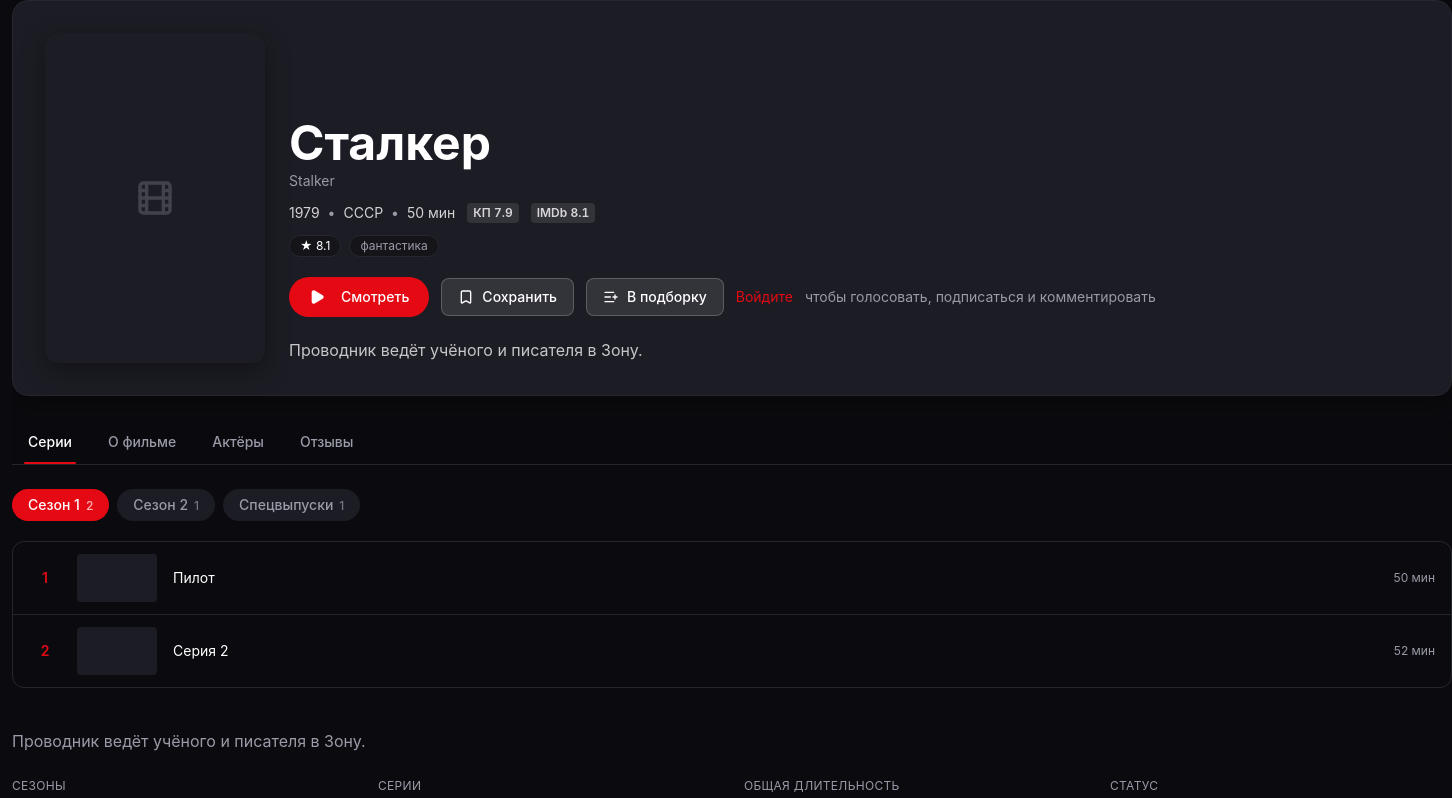
Test case: ItemDetailView — спецвыпуски, актёры, франшиза › вкладка «Спецвыпуски» последней, не первой
Expected: the number of buttons with test id "season-tab" is 2, [12,489,109,521]; [117,489,215,521]
Click the button with test id "specials-tab": point(292, 505) [223,489,360,521]
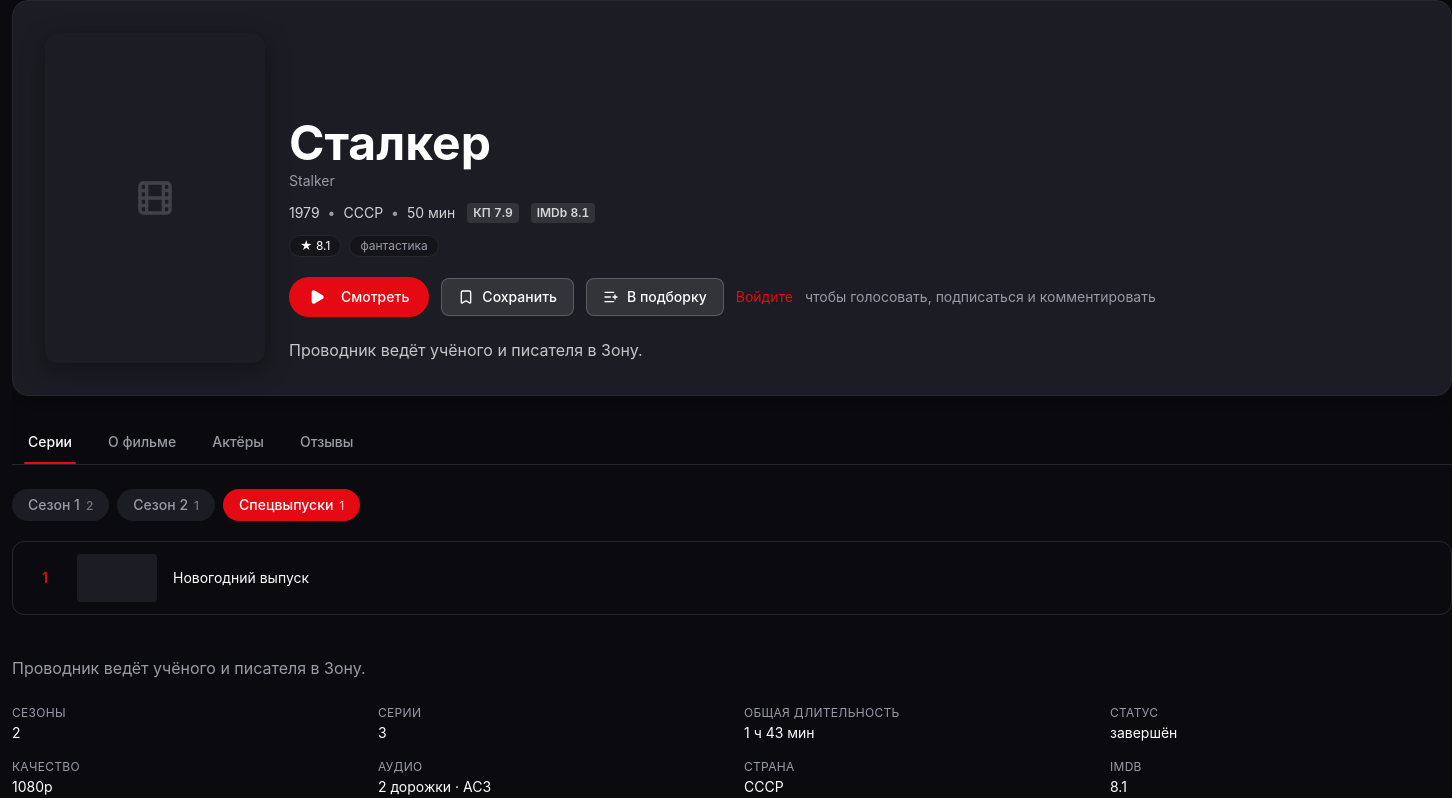
Expected: the text "Новогодний выпуск" is shown, [173,569,309,586]
